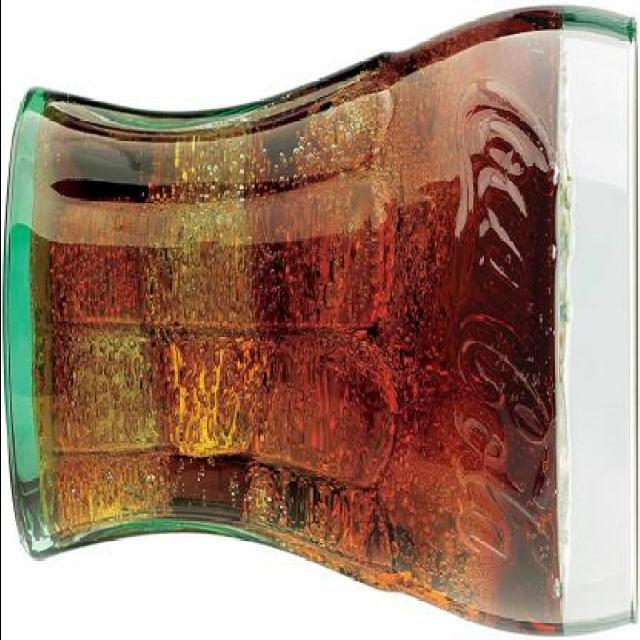Coke: (0, 3, 639, 639)
